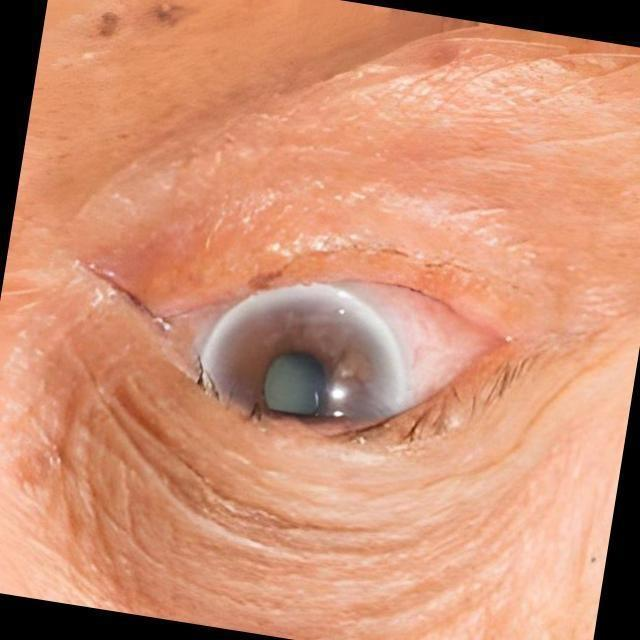Cataract: (170, 252, 430, 489)
